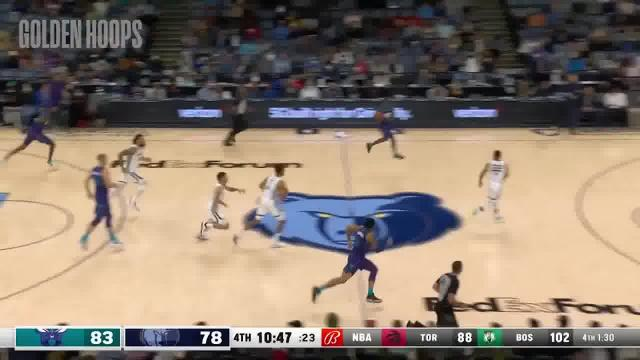ball-handler: (365, 97, 409, 160)
player: (309, 214, 388, 309), (236, 163, 293, 250), (80, 152, 126, 251), (4, 95, 58, 170), (198, 170, 240, 250), (472, 146, 510, 227), (116, 131, 153, 210)
